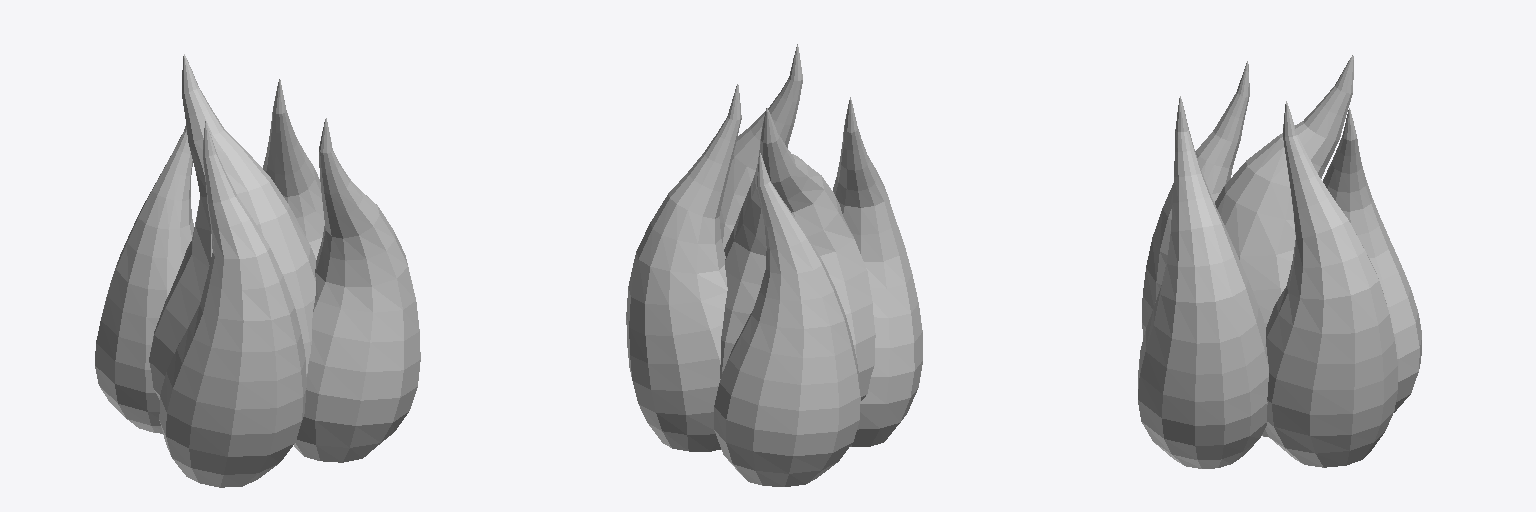
File: fire_000056.obj
3 views of the same model, side by side, from view 1: azimuth 30°, elevation 25°; view 2: azimuth 150°, elevation 25°; view 3: azimuth 270°, elevation 25° (orthographic).
Parts seen in each view (by area): view 1: flame_NurbsPath.015; view 2: flame_NurbsPath.015; view 3: flame_NurbsPath.015.
Boxes of the visible parts, x1,y1,x2,y2 form: flame_NurbsPath.015: [95, 54, 420, 487]; flame_NurbsPath.015: [626, 44, 922, 486]; flame_NurbsPath.015: [1138, 55, 1421, 468].
Bounding box in the file's own units: 0.7646 × 1.14 × 0.7999.